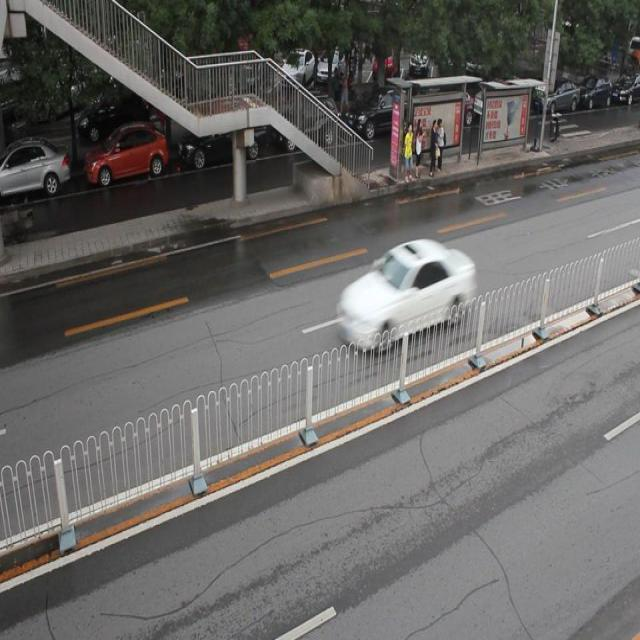car: (334, 238, 473, 348), (178, 96, 266, 166), (84, 122, 170, 186), (1, 137, 69, 195), (349, 84, 413, 141), (276, 94, 338, 150)
